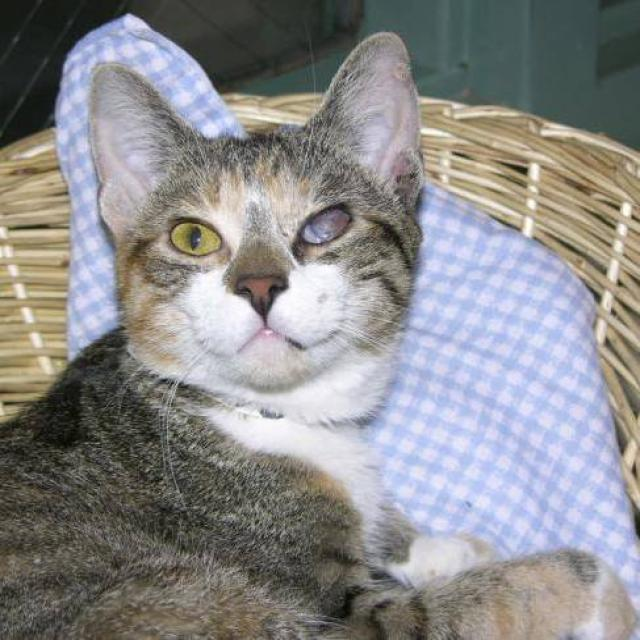cat: (0, 29, 639, 639)
